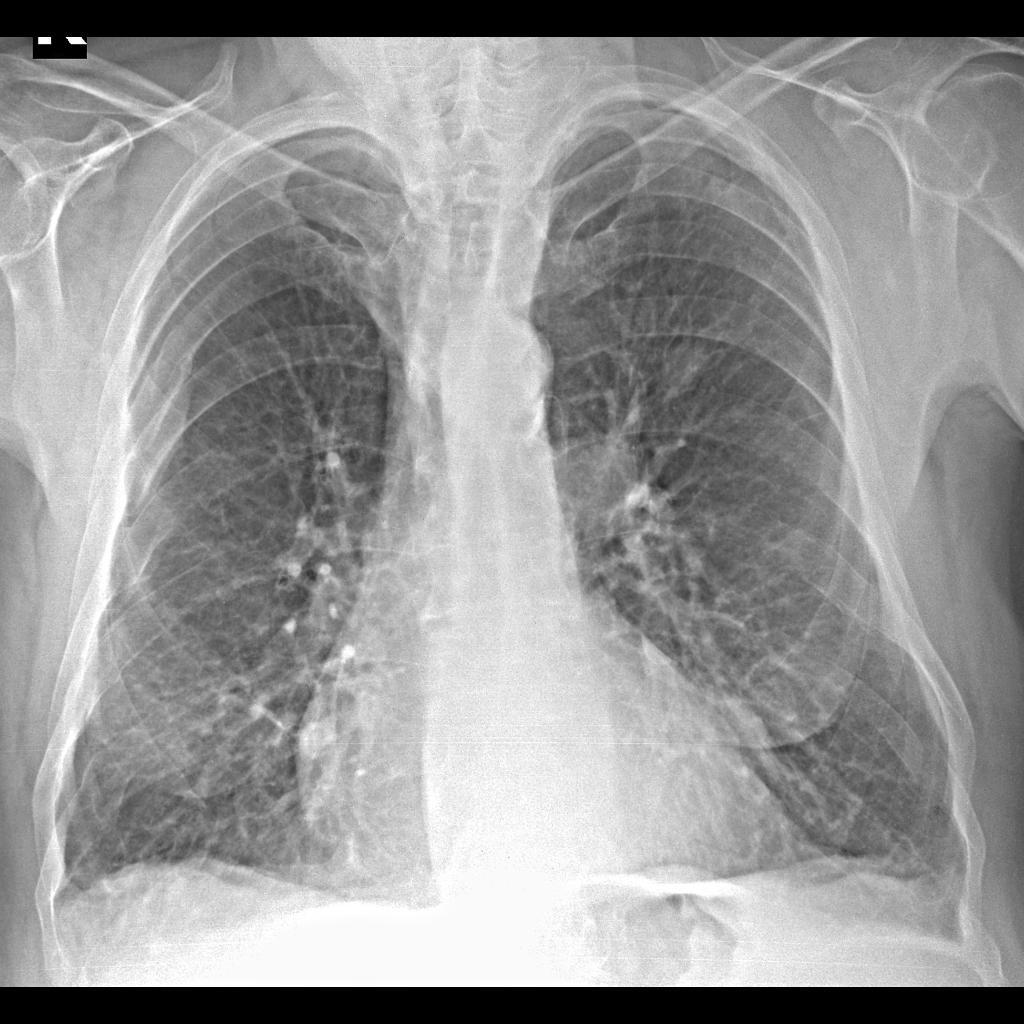Nodule: (287, 715, 336, 766)
